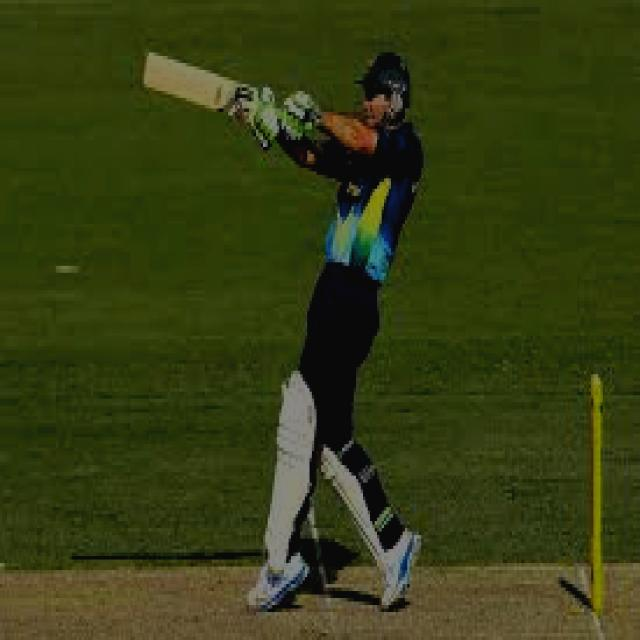toe: (137, 43, 156, 95)
